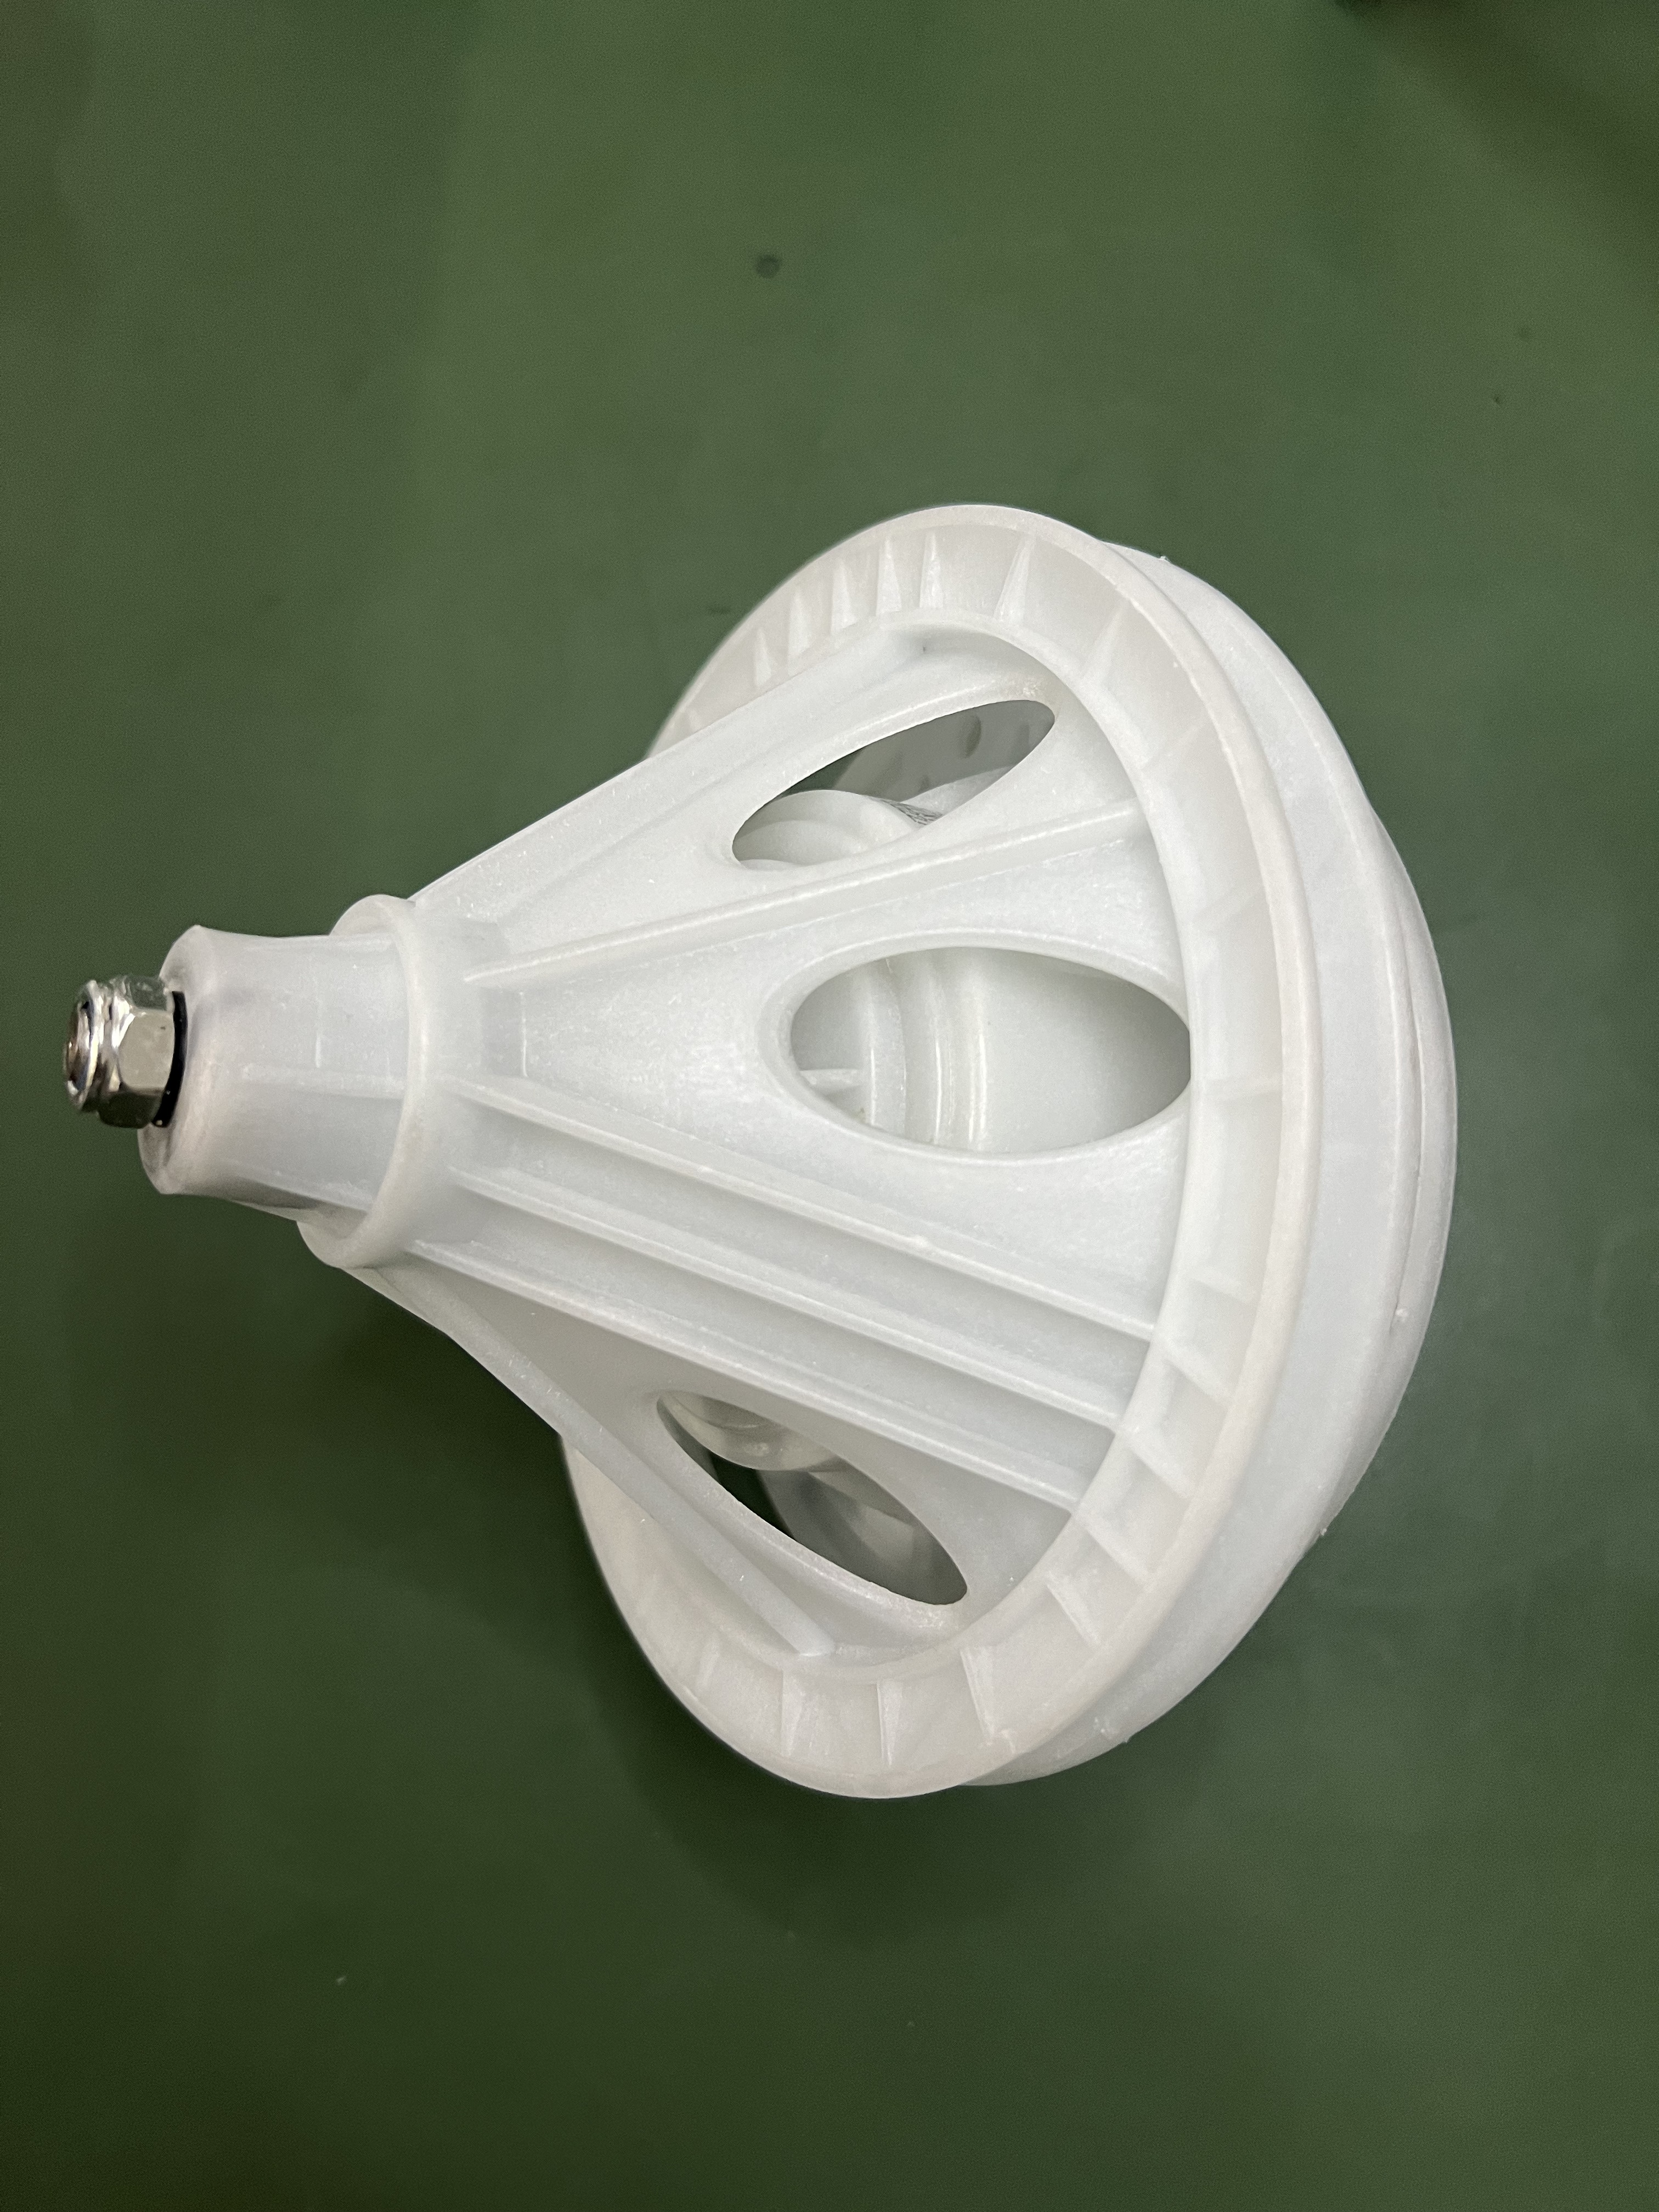gear_box_circle: (89, 521, 1466, 1824)
